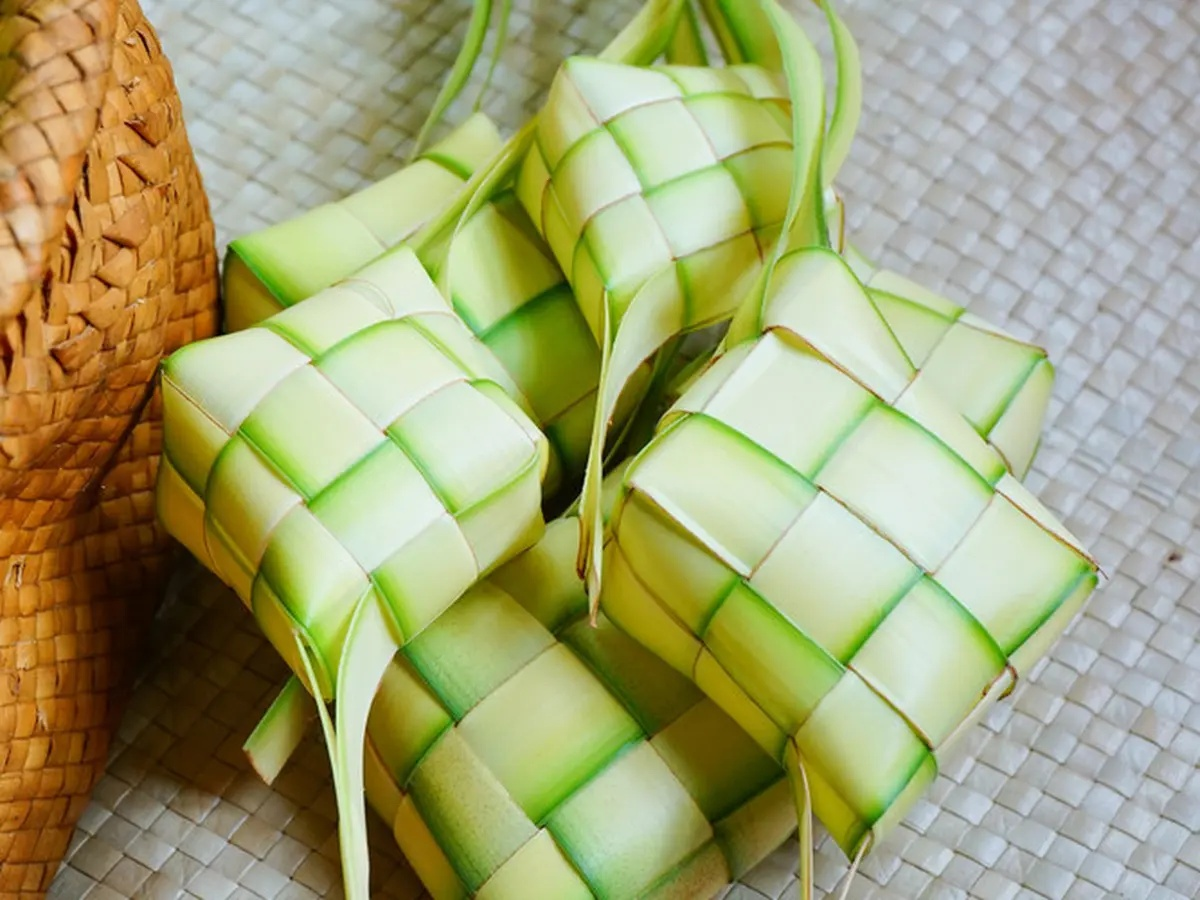ketupat: (598, 247, 1098, 863), (157, 242, 541, 702), (515, 54, 827, 344)
